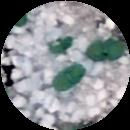Basil: (53, 64, 86, 91), (86, 41, 125, 62)
